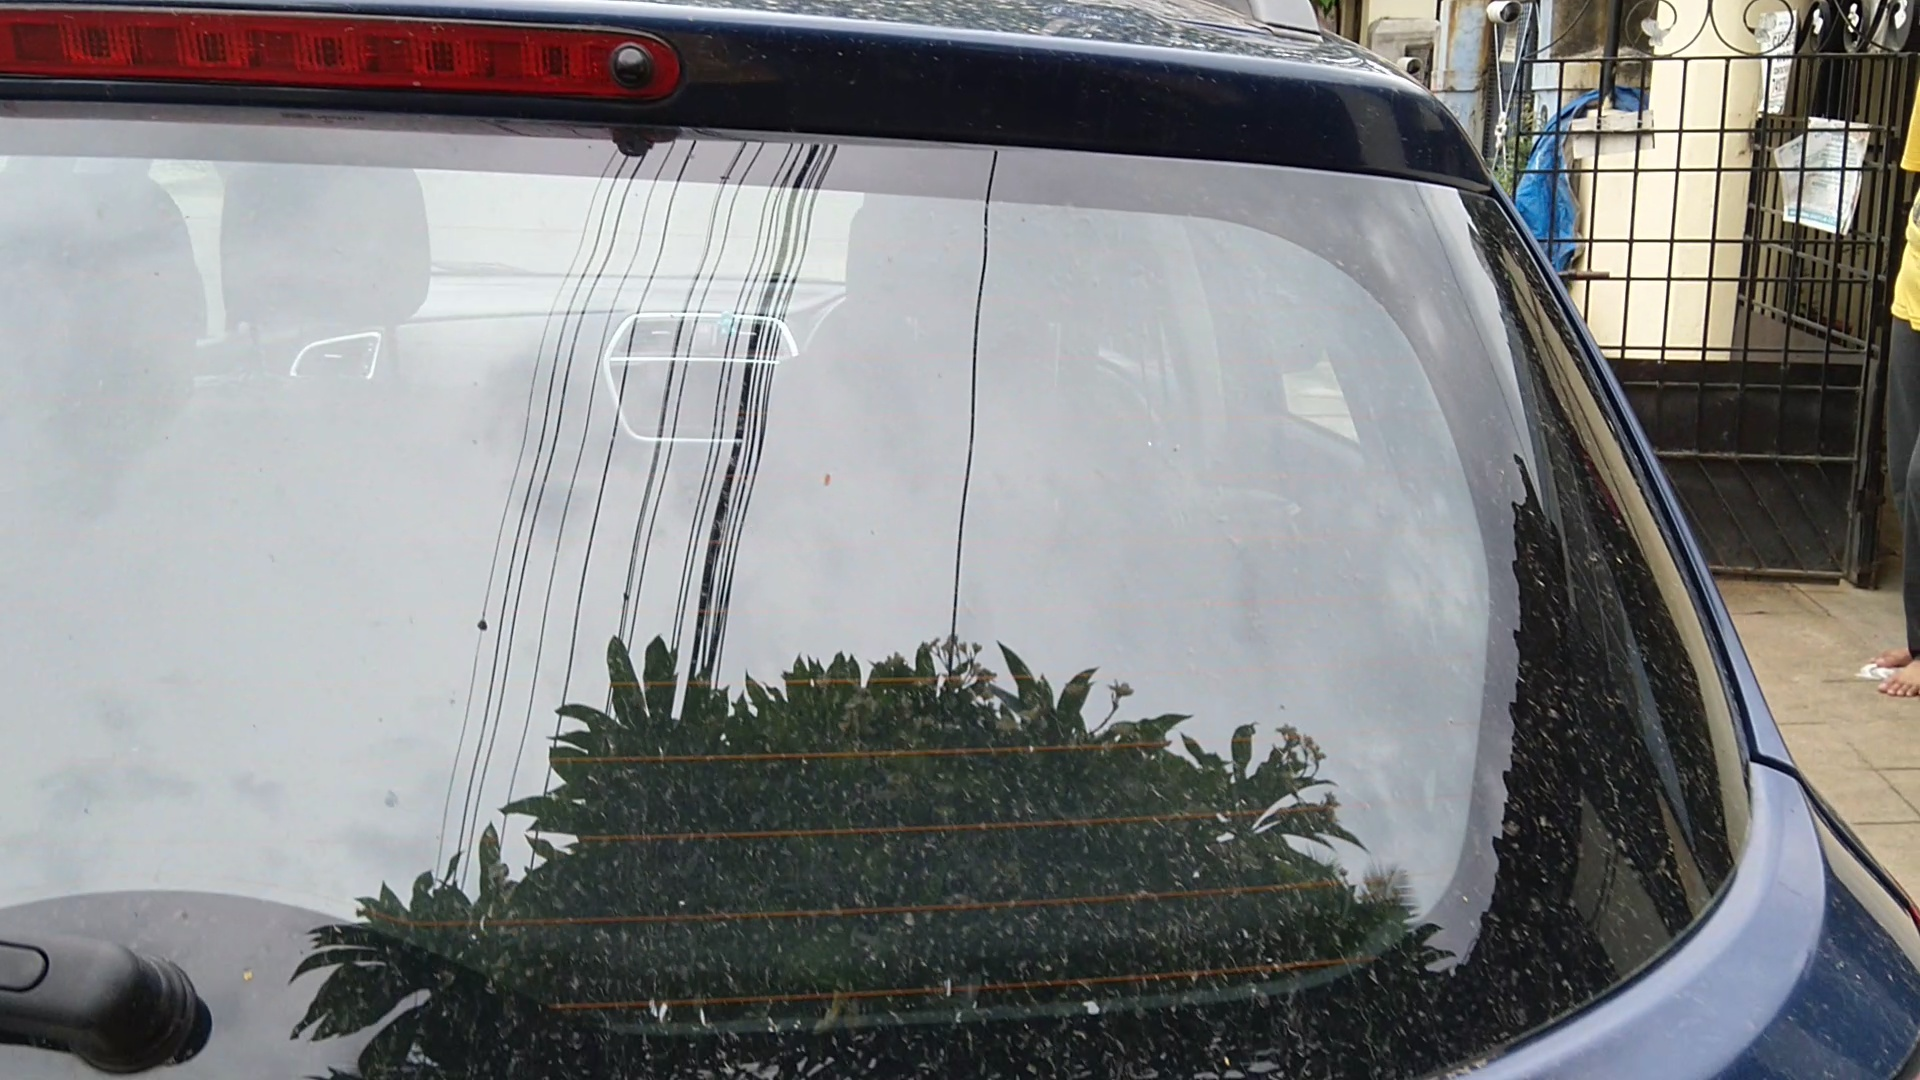rear_camera: (593, 32, 671, 102)
